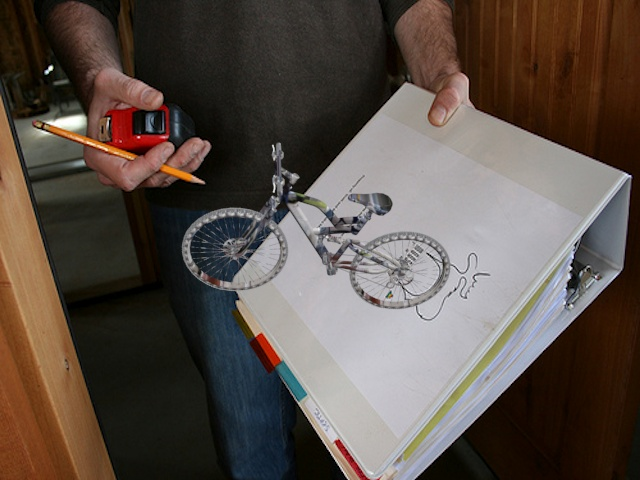bike: (177, 137, 456, 320)
